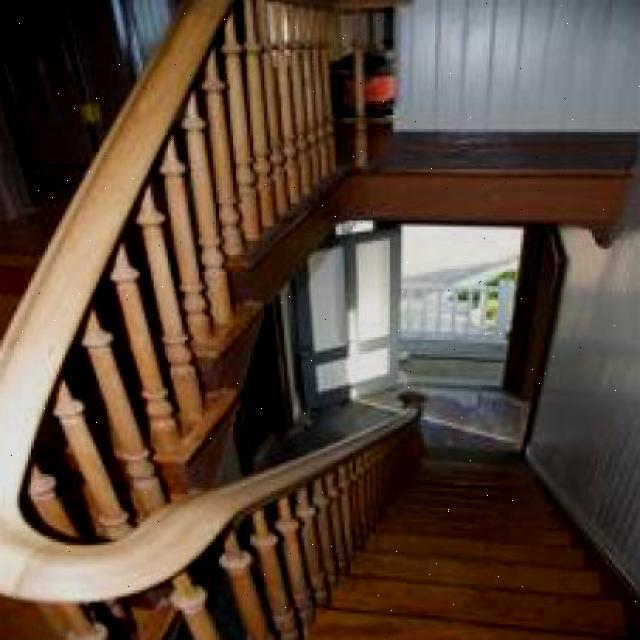stair: (348, 497, 621, 637)
